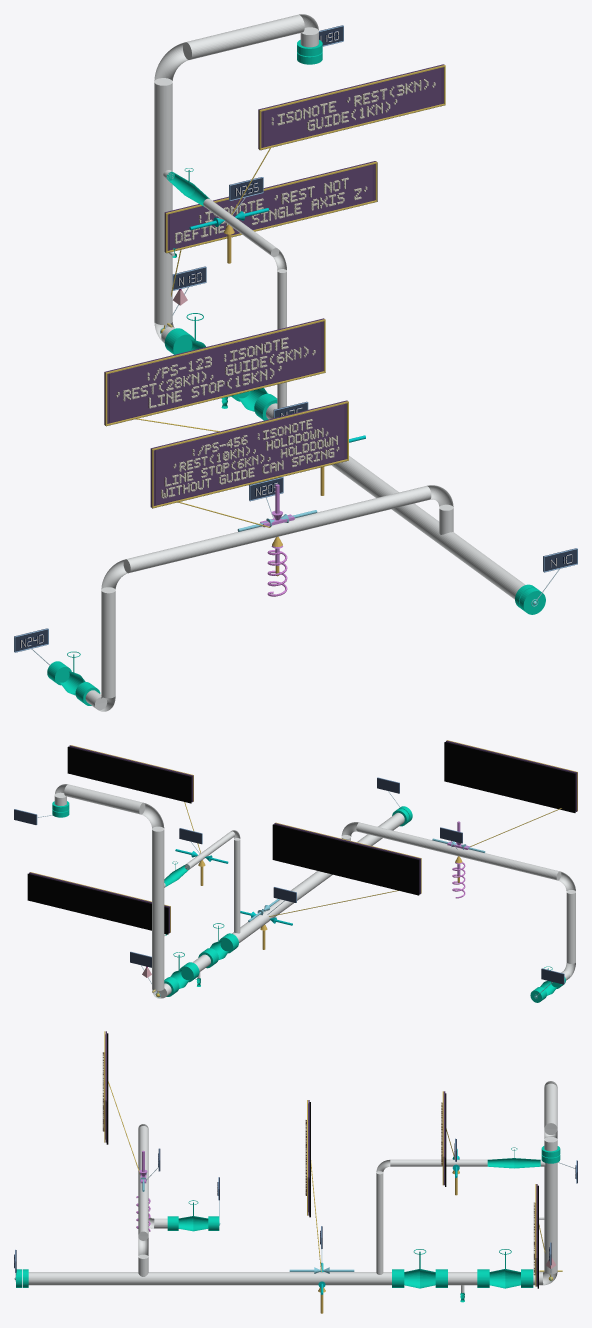
The model's file is BM_CII_latest_engineering.glb.
3 views of the same model, one above another, from view 1: azimuth 30°, elevation 25°; view 2: azimuth 150°, elevation 25°; view 3: azimuth 270°, elevation 25° (orthographic). The views are drawn at different scales.
Visible parts, largest first — view 1: isonote-node-35-readable-nameplate, isonote-node-205-readable-nameplate, isonote-node-130-readable-nameplate, isonote-node-255-readable-nameplate, PE_023_BEND_205_TO_210, PE_018_BEND_160_TO_170, PE_022_PIPE_200_TO_205, PE_003_PIPE_30_TO_35, PE_002_PIPE_20_TO_30, PE_017_BEND_150_TO_160, PE_024_BEND_210_TO_220, PE_015_PIPE_130_TO_140 (+1 smaller); view 2: isonote-node-35-readable-nameplate, isonote-node-205-readable-nameplate, isonote-node-130-readable-nameplate, isonote-node-255-readable-nameplate, PE_023_BEND_205_TO_210, PE_018_BEND_160_TO_170, PE_022_PIPE_200_TO_205, PE_017_BEND_150_TO_160, PE_003_PIPE_30_TO_35, PE_024_BEND_210_TO_220, PE_016_PIPE_140_TO_150, PE_029_BEND_70_TO_250 (+4 smaller); view 3: PE_003_PIPE_30_TO_35, PE_002_PIPE_20_TO_30, isonote-node-205-readable-nameplate, PE_029_BEND_70_TO_250, PE_004_PIPE_35_TO_70, isonote-node-35-readable-nameplate, PE_016_PIPE_140_TO_150, PE_015_PIPE_130_TO_140, PE_018_BEND_160_TO_170, isonote-node-130-readable-nameplate, PE_022_PIPE_200_TO_205, isonote-node-255-readable-nameplate (+6 smaller).
Boxes of the visible parts, box(x1,y1,x2,y2) form: isonote-node-35-readable-nameplate: box(104, 318, 325, 431); isonote-node-205-readable-nameplate: box(150, 400, 348, 527); isonote-node-130-readable-nameplate: box(161, 161, 377, 333); isonote-node-255-readable-nameplate: box(231, 64, 445, 214); PE_023_BEND_205_TO_210: box(123, 524, 280, 573); PE_018_BEND_160_TO_170: box(183, 14, 304, 59); PE_022_PIPE_200_TO_205: box(278, 486, 431, 536); PE_003_PIPE_30_TO_35: box(331, 456, 439, 544); PE_002_PIPE_20_TO_30: box(438, 532, 525, 599); PE_017_BEND_150_TO_160: box(154, 78, 172, 174); PE_024_BEND_210_TO_220: box(101, 587, 115, 698); PE_015_PIPE_130_TO_140: box(154, 248, 172, 324); isonote-node-35-readable-nameplate: box(269, 822, 421, 916); isonote-node-205-readable-nameplate: box(444, 740, 577, 846); isonote-node-130-readable-nameplate: box(27, 872, 170, 996); isonote-node-255-readable-nameplate: box(67, 745, 200, 853); PE_023_BEND_205_TO_210: box(456, 848, 561, 880); PE_018_BEND_160_TO_170: box(64, 784, 145, 814); PE_022_PIPE_200_TO_205: box(356, 822, 457, 855); PE_017_BEND_150_TO_160: box(152, 826, 164, 890); PE_003_PIPE_30_TO_35: box(263, 871, 332, 921); PE_024_BEND_210_TO_220: box(566, 890, 575, 963); PE_016_PIPE_140_TO_150: box(152, 889, 164, 941); PE_029_BEND_70_TO_250: box(234, 839, 240, 933); PE_003_PIPE_30_TO_35: box(143, 1272, 321, 1285); PE_002_PIPE_20_TO_30: box(28, 1272, 143, 1285); isonote-node-205-readable-nameplate: box(102, 1031, 140, 1175); PE_029_BEND_70_TO_250: box(376, 1171, 383, 1274); PE_004_PIPE_35_TO_70: box(322, 1272, 379, 1285); isonote-node-35-readable-nameplate: box(305, 1100, 321, 1271); PE_016_PIPE_140_TO_150: box(544, 1164, 557, 1221); PE_015_PIPE_130_TO_140: box(544, 1219, 557, 1274); PE_018_BEND_160_TO_170: box(544, 1083, 557, 1134); isonote-node-130-readable-nameplate: box(533, 1184, 552, 1288); PE_022_PIPE_200_TO_205: box(138, 1180, 148, 1240); isonote-node-255-readable-nameplate: box(441, 1091, 454, 1186).
Bounding box in the file's own units: 4.23 × 2.61 × 4.87.
